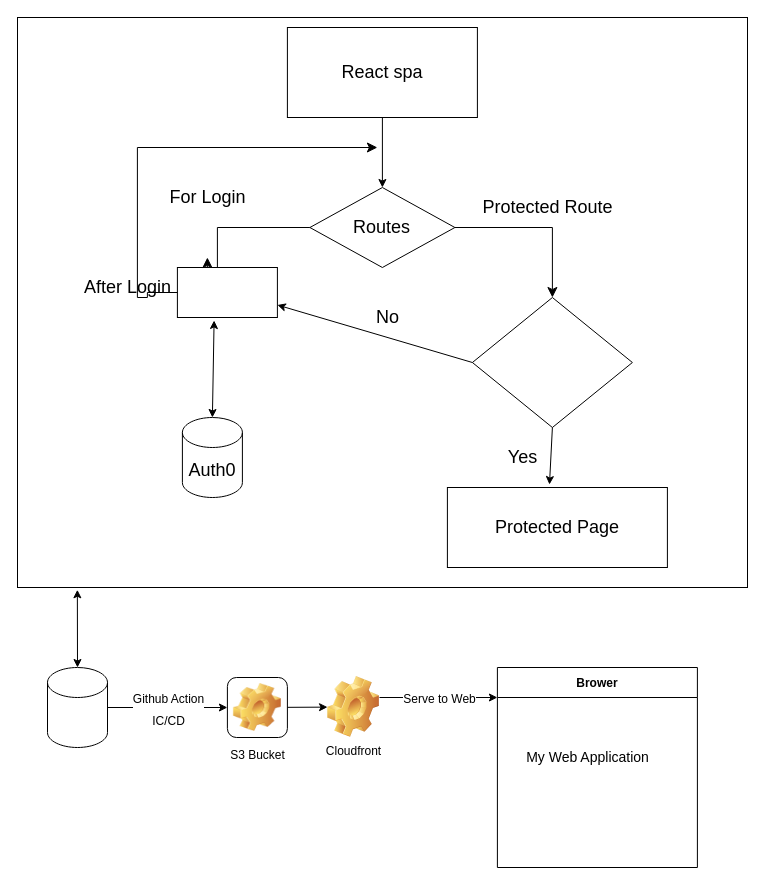
The diagram is 765 pixels wide and 885 high, and some of its shapes have lost their labels. Here are the shapes that lost their labels. From the top down, the box of each, then its label:
(176, 266, 277, 318): Login Page
(471, 296, 632, 428): Is Authenticated
(46, 666, 108, 748): Github
